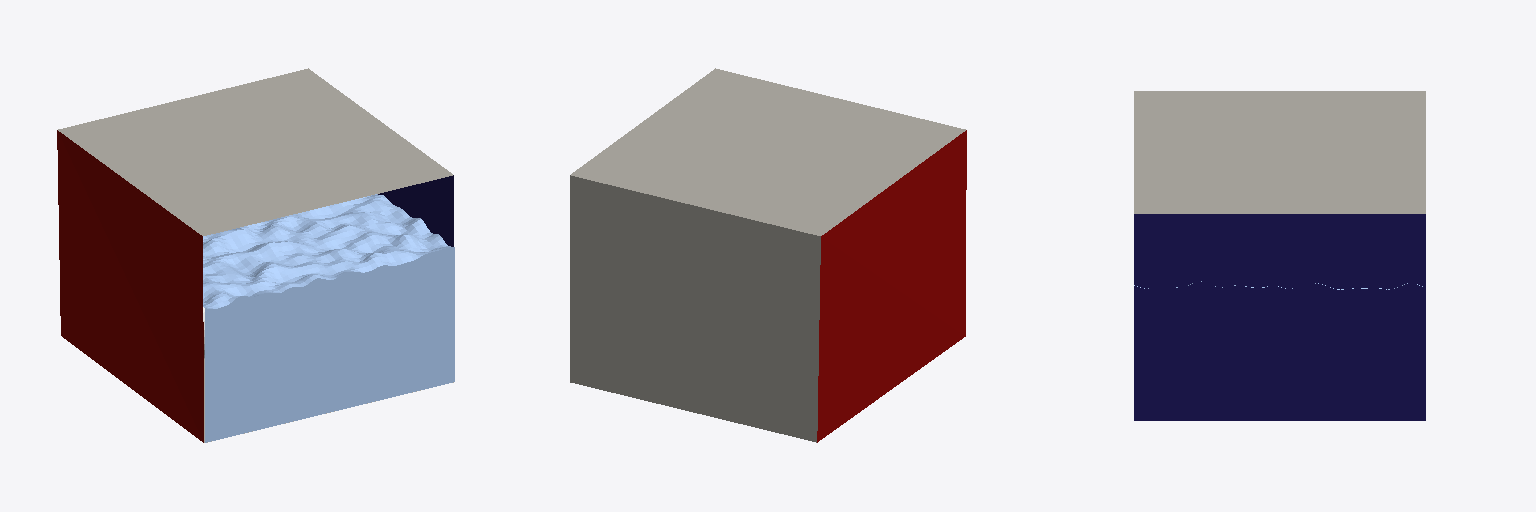
File: CornellBox-Water.obj
3 renders of one model, left to right at view 1: azimuth 30°, elevation 25°; view 2: azimuth 150°, elevation 25°; view 3: azimuth 270°, elevation 25°, orthographic.
Visible parts, largest first — view 1: water, ceiling, leftWall, rightWall; view 2: backWall, ceiling, leftWall; view 3: rightWall, ceiling.
Boxes of the visible parts, <box> form: water: <box>203,194,454,442</box>; ceiling: <box>58,68,452,235</box>; leftWall: <box>57,130,203,442</box>; rightWall: <box>378,175,453,246</box>; backWall: <box>570,175,820,442</box>; ceiling: <box>571,68,965,235</box>; leftWall: <box>817,130,966,442</box>; rightWall: <box>1134,214,1425,420</box>; ceiling: <box>1134,91,1425,213</box>.
Size of the model in its own units: 2.02 by 1.59 by 2.03.